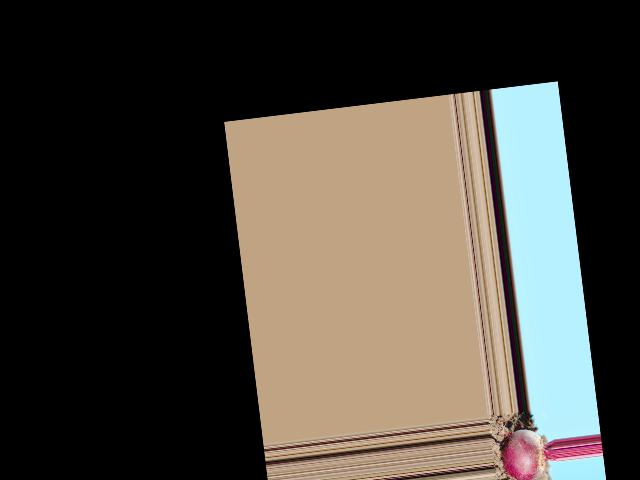beet: (498, 425, 558, 480)
